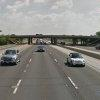Car: (61, 47, 88, 75)
